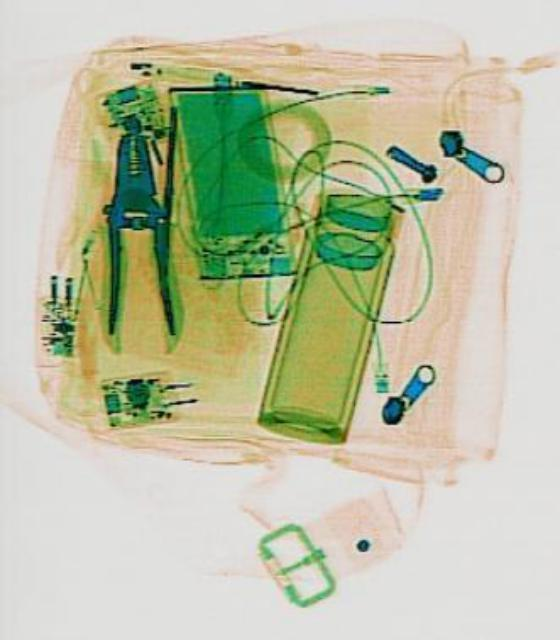Pliers: (98, 129, 171, 335)
